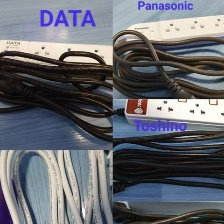three_eye_plug: (0, 37, 115, 82), (119, 88, 224, 137), (118, 11, 224, 53)
